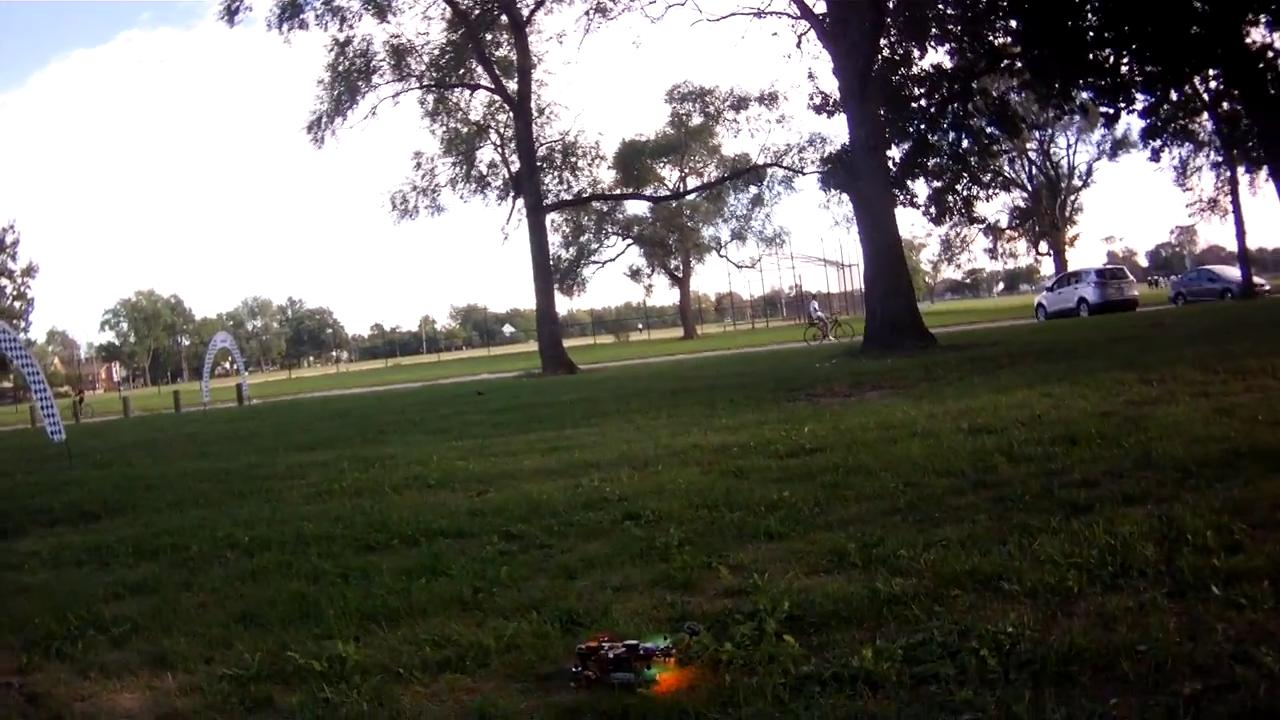gate: (195, 329, 253, 403)
